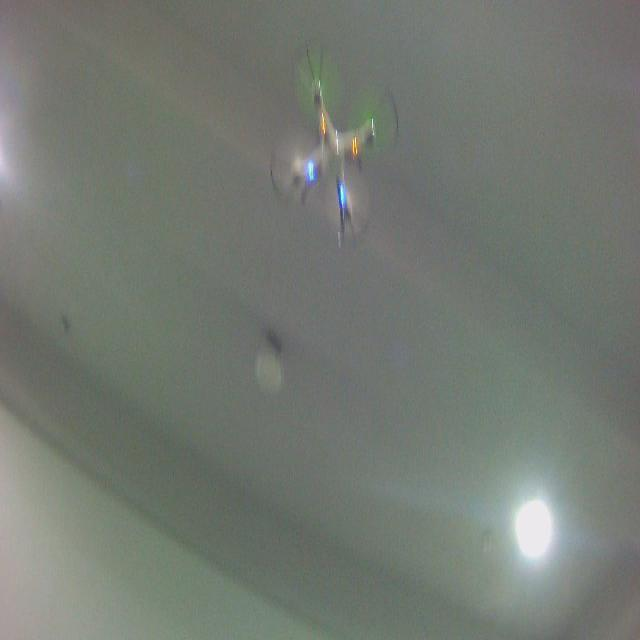drone: (267, 32, 400, 252)
